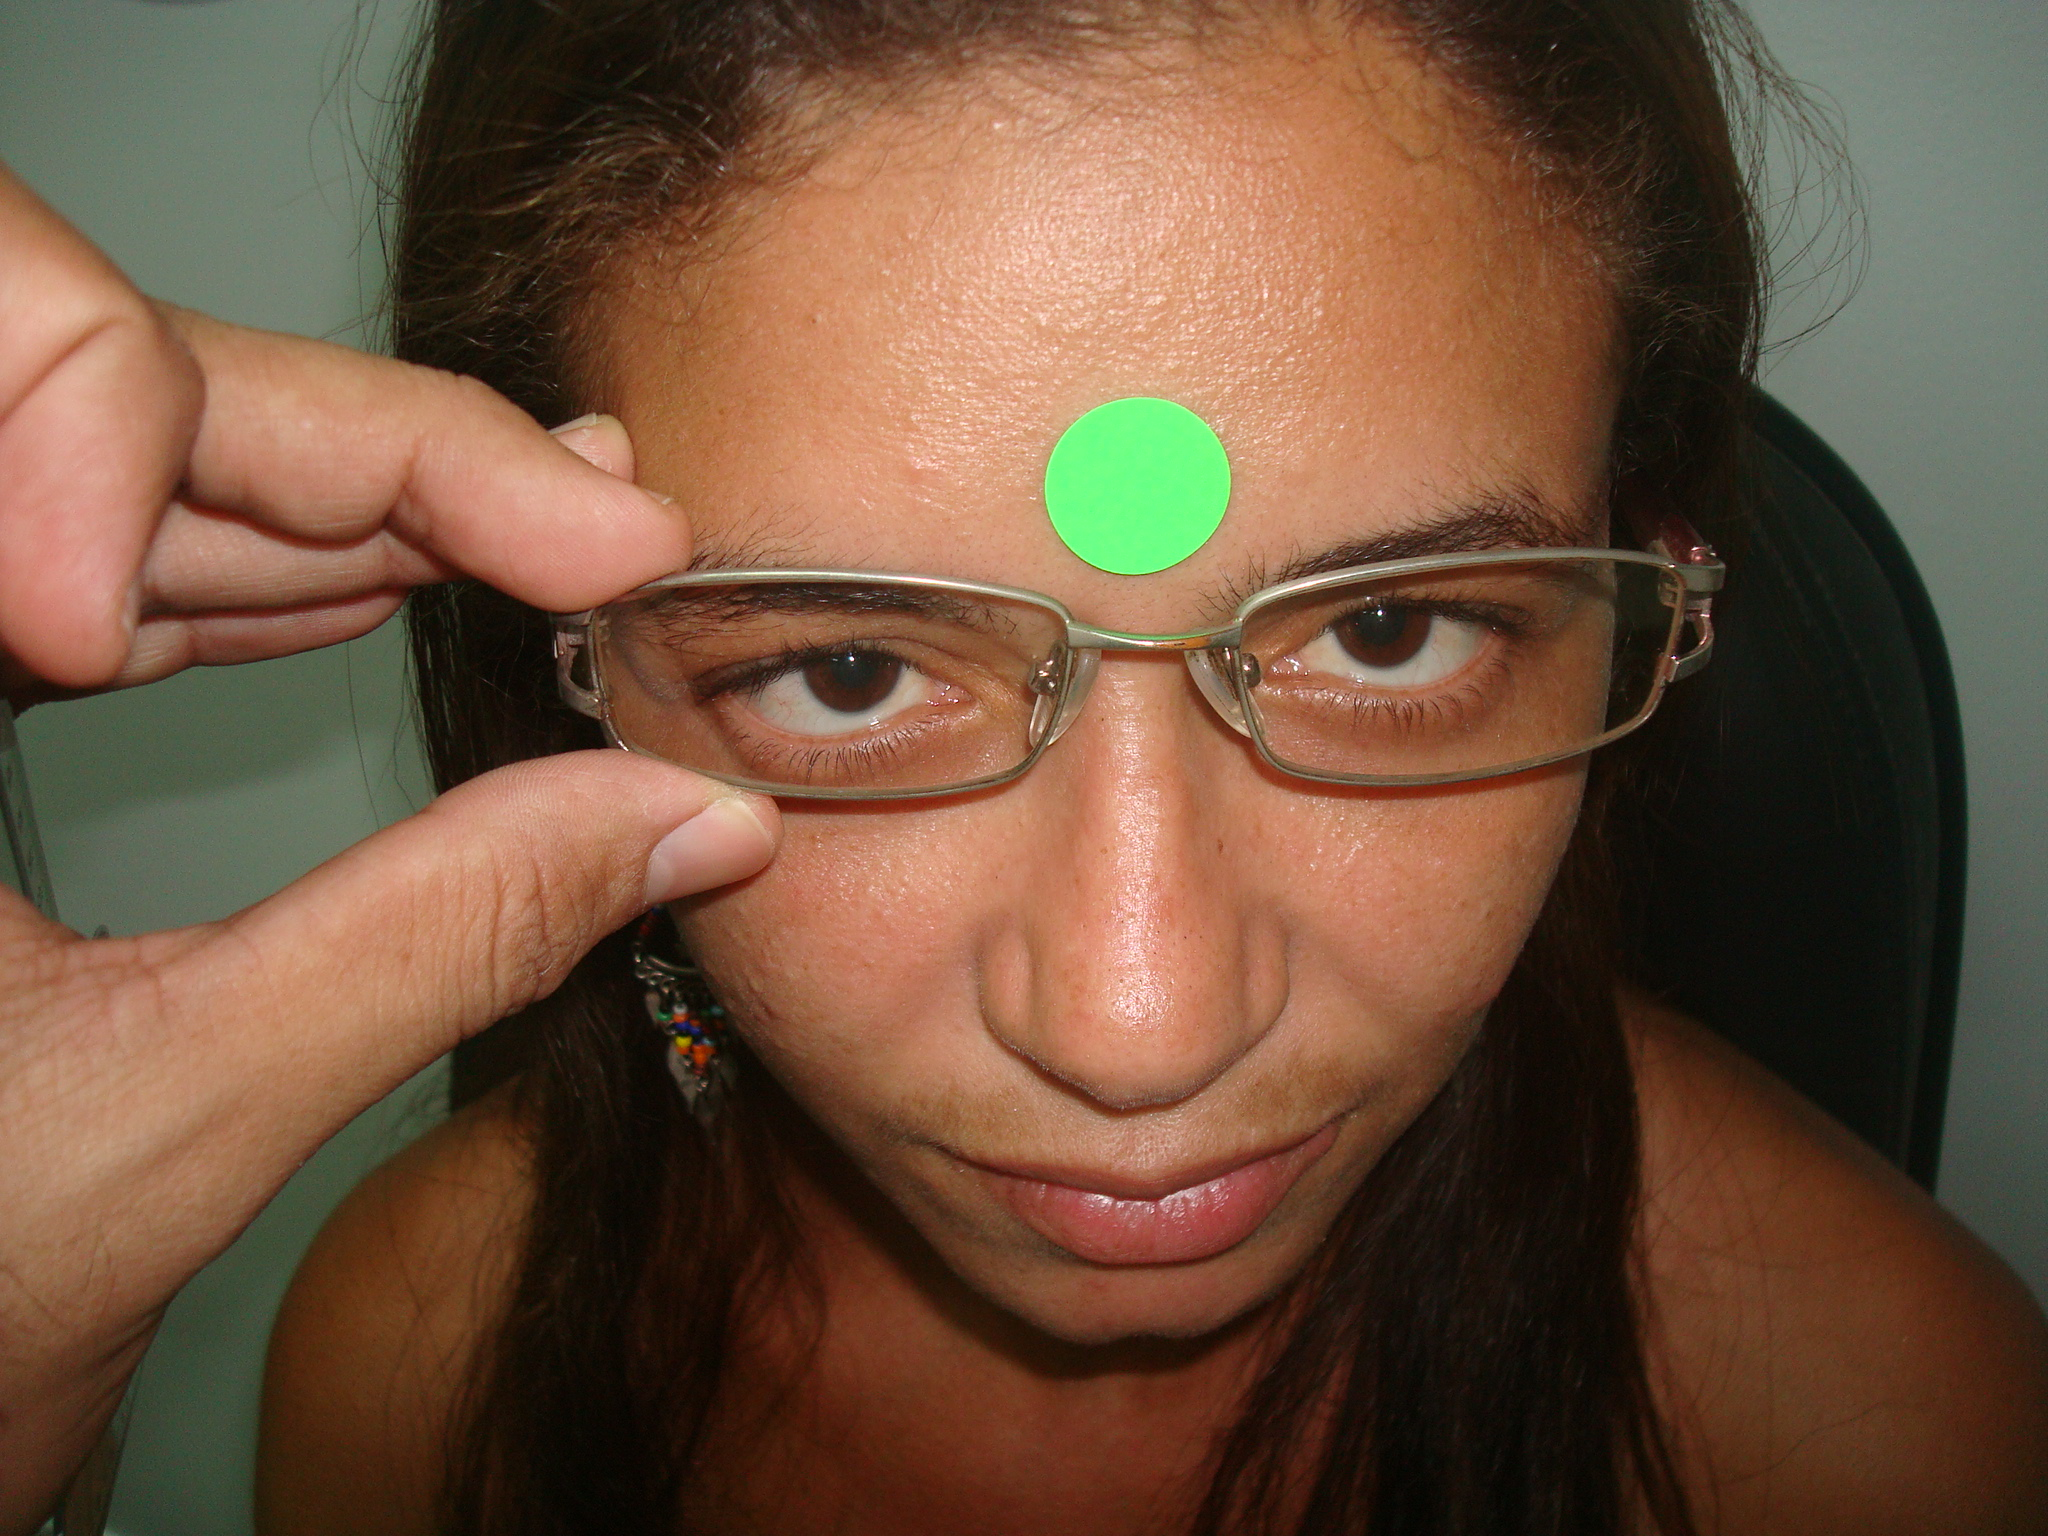flash: (1372, 605, 1387, 621), (845, 652, 858, 665)
limbo: (1330, 574, 1429, 666), (801, 616, 901, 707)
